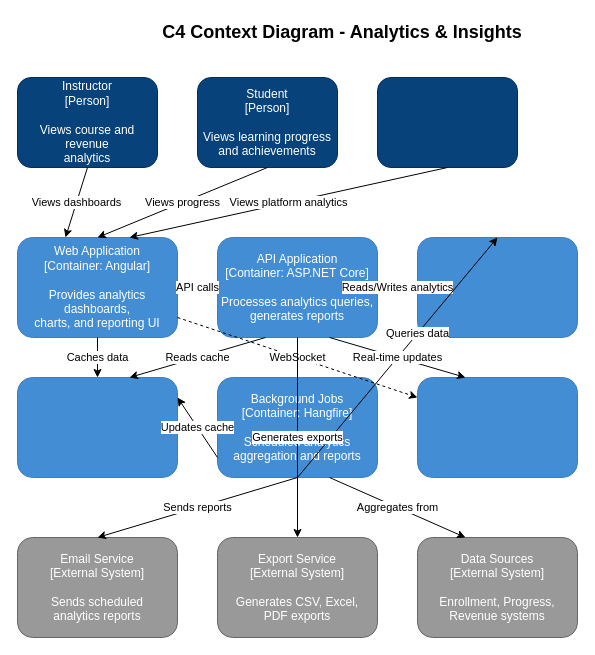
Image size: 595x655. Some labels were removed from this diagram. Here are the shapes that lost their labels. From the top down, the box of each, then its label:
(376, 76, 518, 168): Platform Admin [Person] Views platform-wide analytics and reports
(416, 236, 578, 338): Database [Container: SQL Server] Stores analytics data, metrics, and reports
(16, 376, 178, 478): Cache [Container: Redis] Caches aggregated analytics data
(416, 376, 578, 478): SignalR Hub [Container: SignalR] Provides real-time analytics updates
